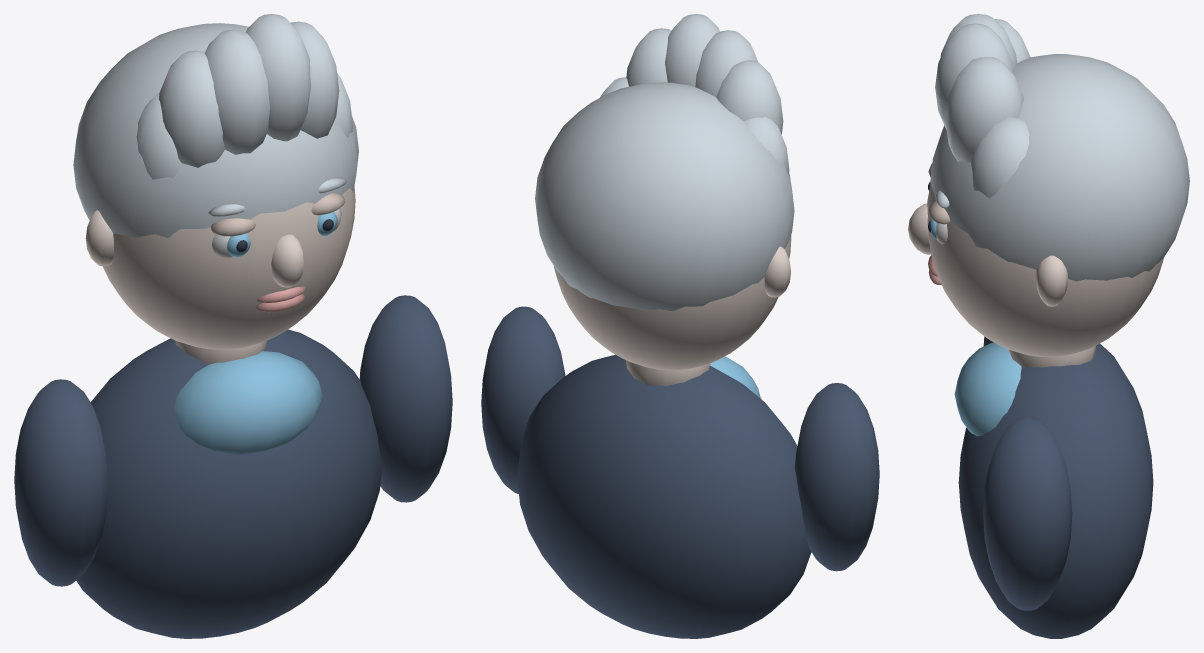
The model's file is kaito.glb.
3 renders of one model, left to right at view 1: azimuth 30°, elevation 25°; view 2: azimuth 150°, elevation 25°; view 3: azimuth 270°, elevation 25°, orthographic. The views are drawn at different scales.
Visible parts, largest first — view 1: kaito; view 2: kaito; view 3: kaito.
Part boxes in pixels (x1,y1,x2,y2): kaito: [14, 14, 452, 638]; kaito: [481, 14, 879, 638]; kaito: [908, 14, 1189, 638].
Bounding box in the file's own units: 1.13 × 1.64 × 0.695.
